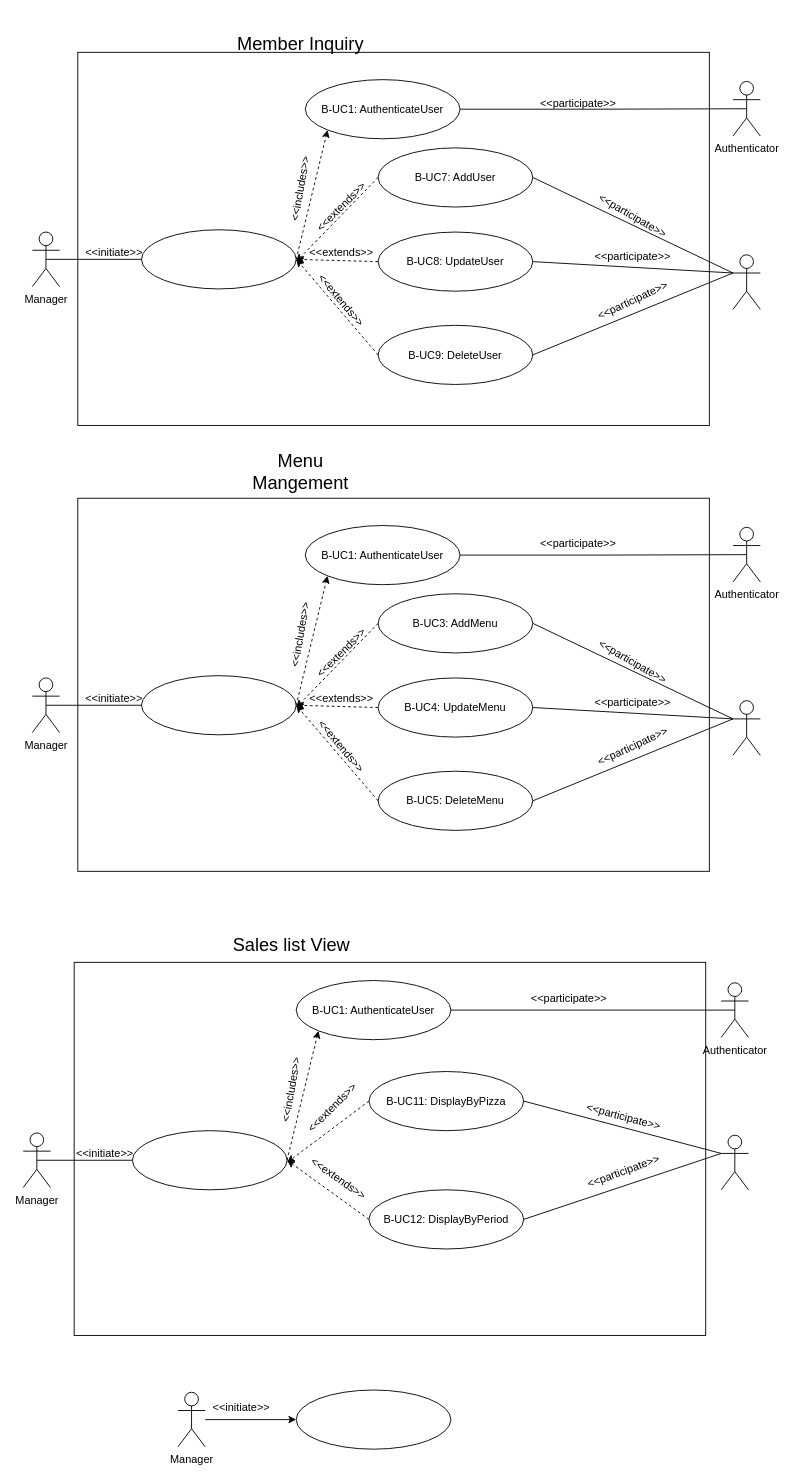
This 794x1481 diagram has some shape labels left out. Here are the shapes that lost their labels. From the top down, the box of each, then its label:
(141, 229, 296, 289): B-UC6: ManageUsers
(732, 254, 760, 309): Users
(141, 675, 296, 735): B-UC2: ManageMenus
(732, 700, 760, 755): Menulist
(131, 1130, 287, 1190): B-UC10: DisplaySales
(720, 1134, 748, 1190): Orderlist
(295, 1389, 451, 1449): B-UC13: SwitchOpening
